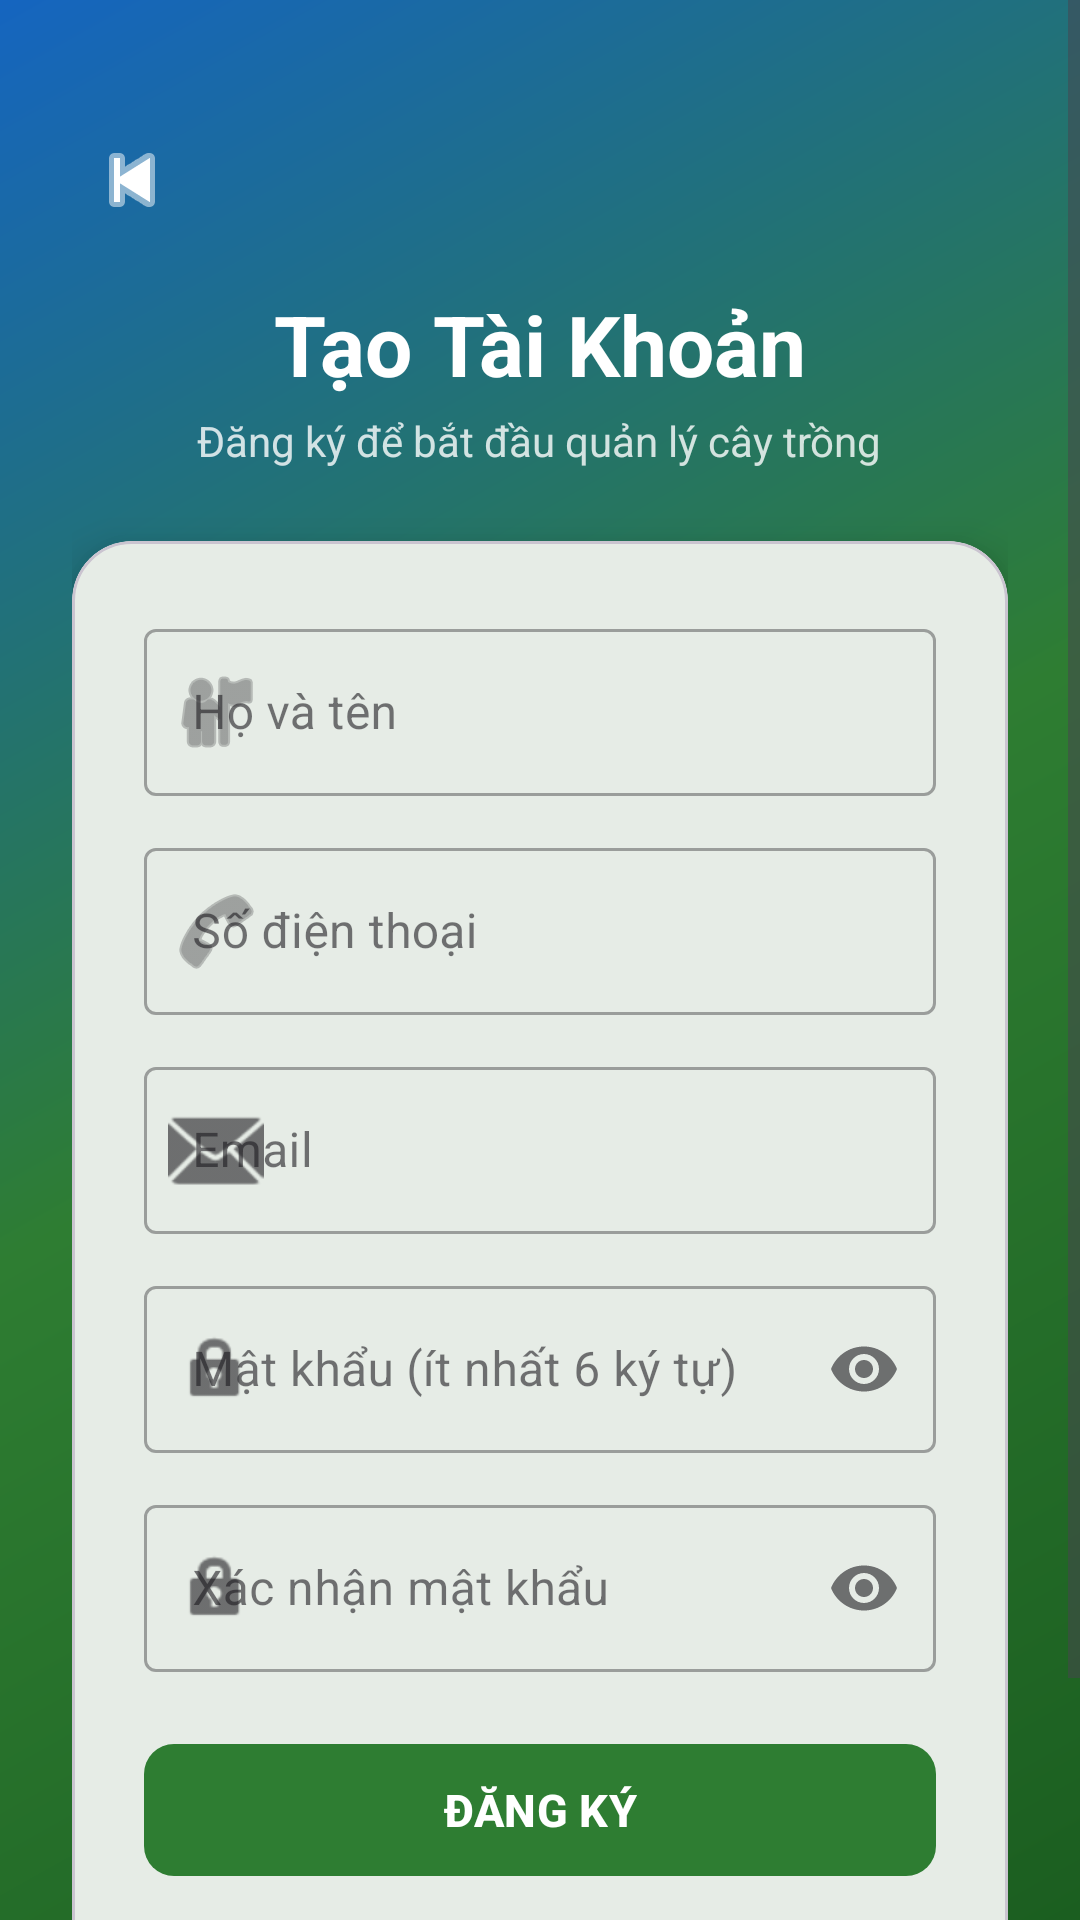

Where icons sit on this 1080×1920 app screen, as (x1=x1, y1=y1, x2=x2, y2=y2):
Quay lại: (x1=109, y1=153, x2=155, y2=207)
